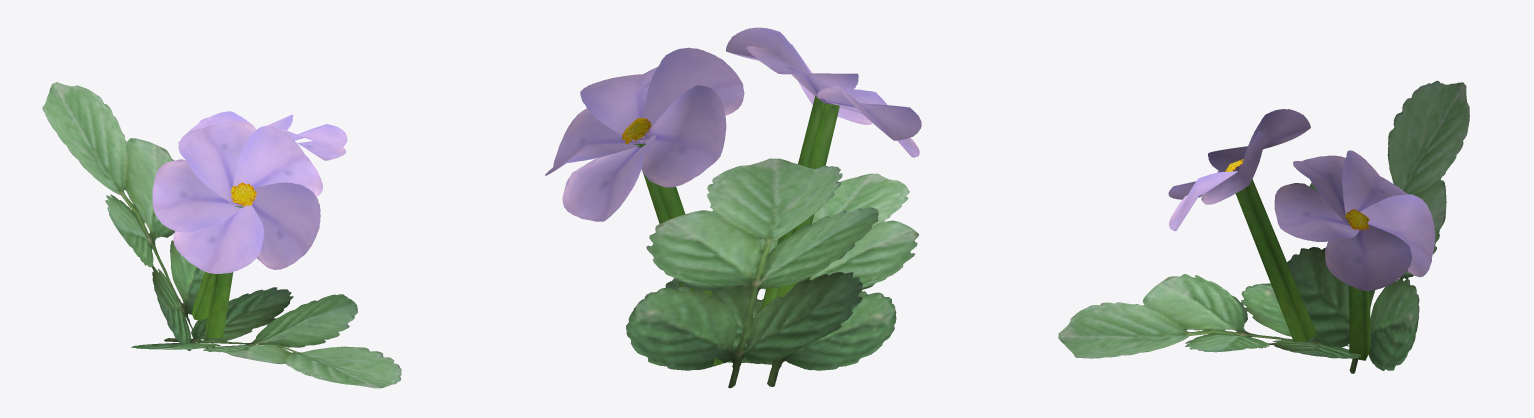
File: indigof1.obj
3 renders of one model, left to right at view 1: azimuth 30°, elevation 25°; view 2: azimuth 150°, elevation 25°; view 3: azimuth 270°, elevation 25°, orthographic. The views are drawn at different scales.
Parts seen in each view (by area): view 1: indigof01; view 2: indigof01; view 3: indigof01.
Boxes of the visible parts, <box> form: indigof01: <box>42,82,401,388</box>; indigof01: <box>545,27,921,388</box>; indigof01: <box>1058,80,1469,373</box>.
Bounding box in the file's own units: 19.31 × 16.45 × 25.77.
2 materials, 2 textured.
